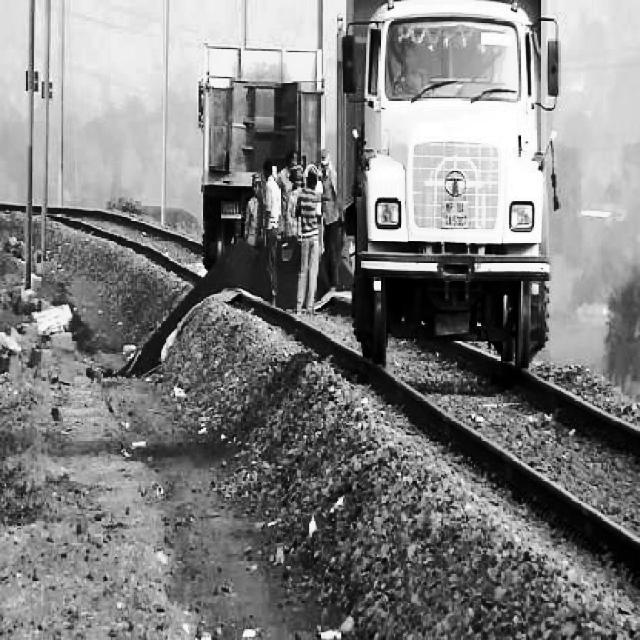HCV: (332, 1, 536, 338)
